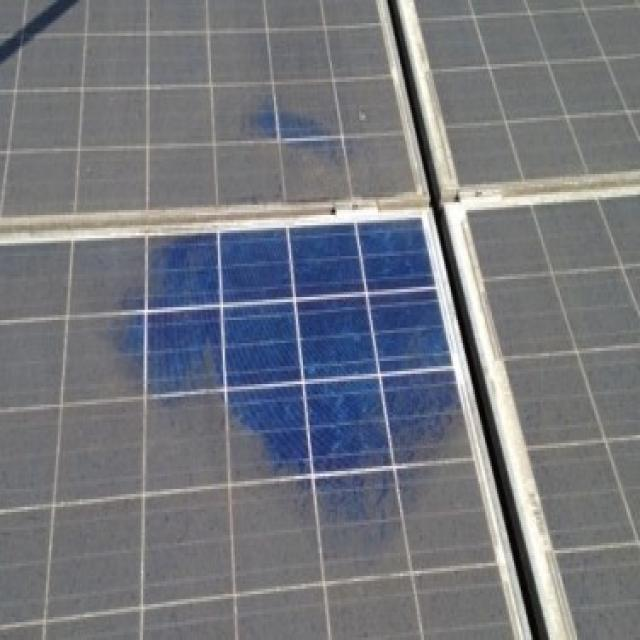Dusty: (0, 238, 513, 640), (3, 0, 416, 209), (473, 202, 639, 634), (417, 1, 638, 184)
